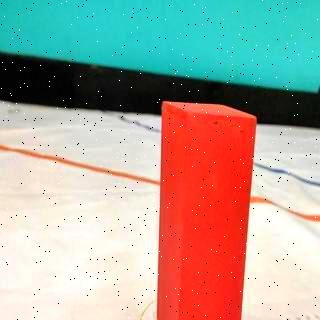redbox: (158, 99, 258, 320)
